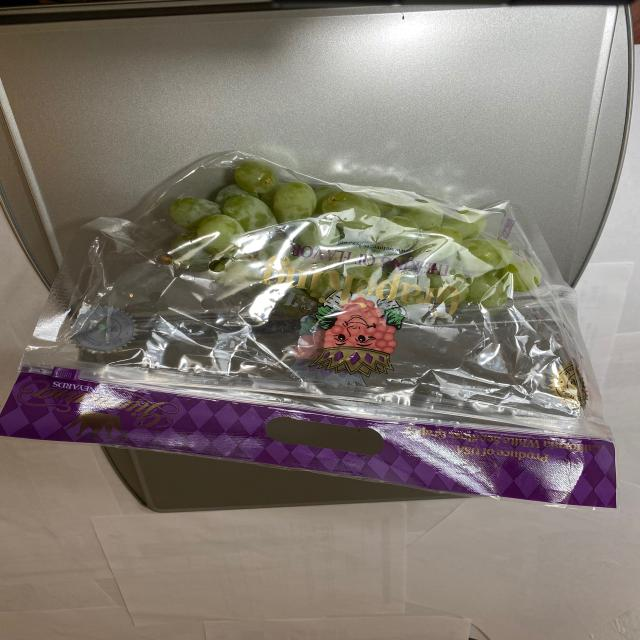grapes: (159, 172, 546, 304)
